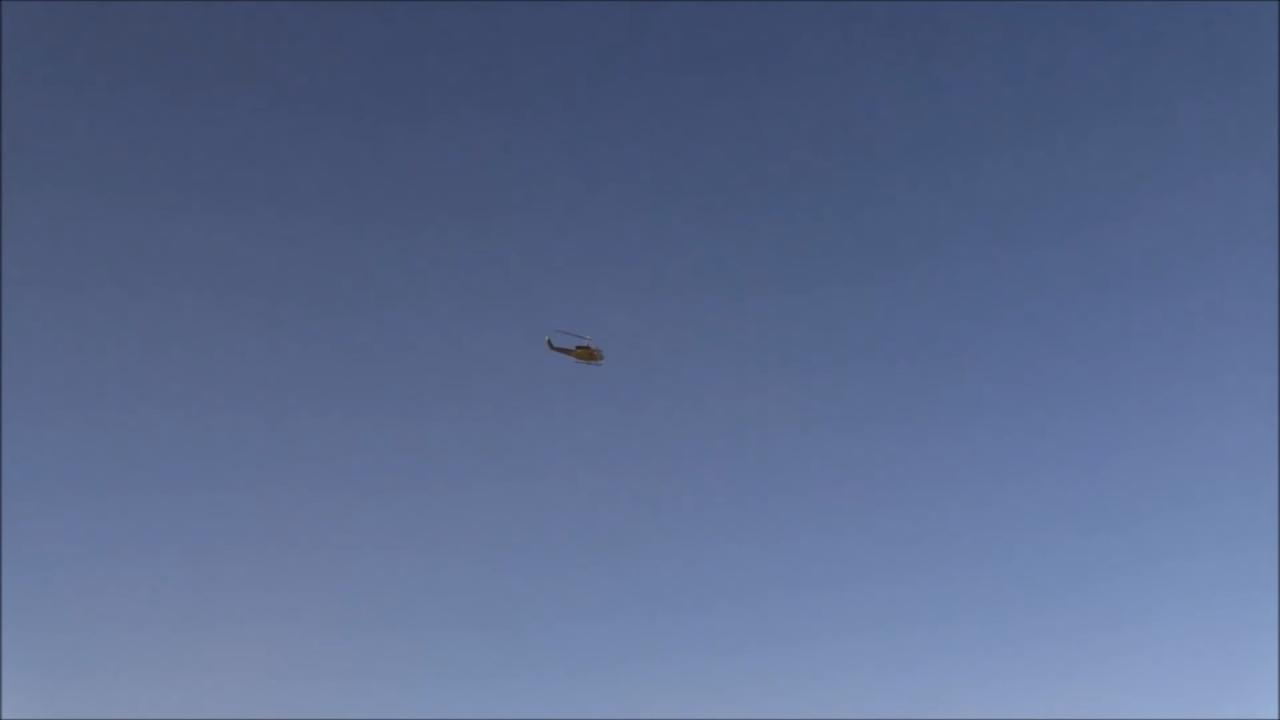Helicopter: (528, 316, 621, 377)
